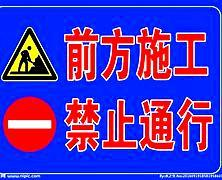sign: (2, 4, 220, 175)
